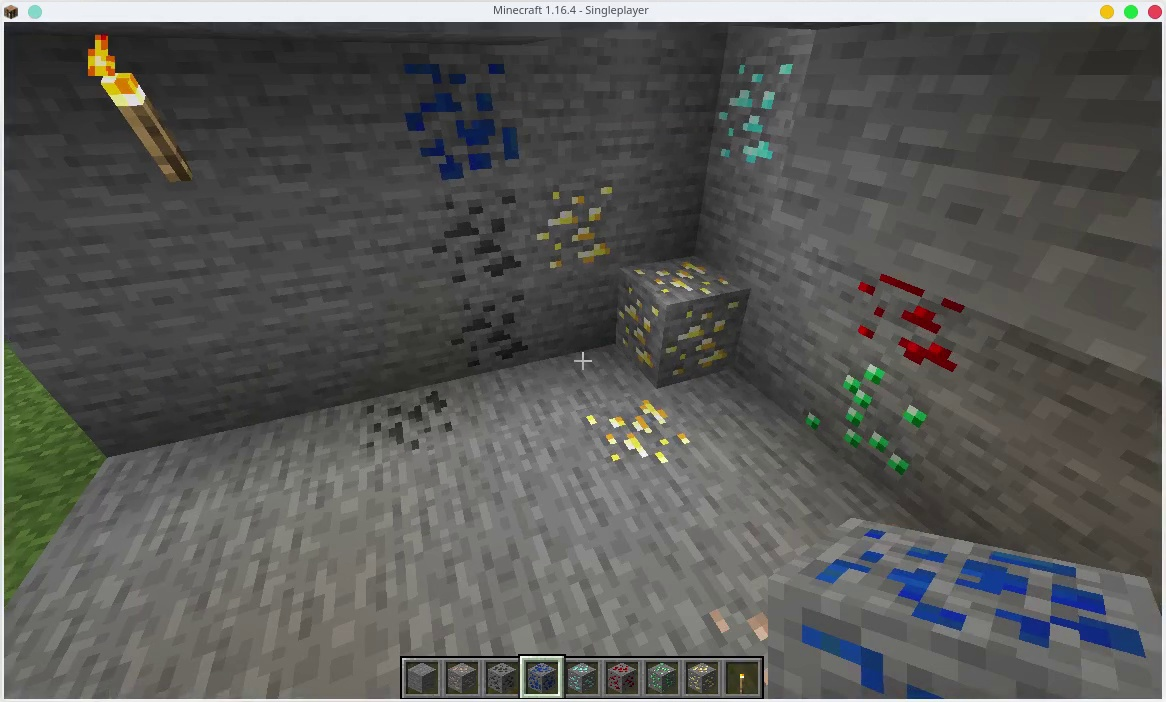gold: (623, 257, 750, 386), (571, 395, 705, 478), (530, 174, 618, 275), (687, 661, 717, 693)
